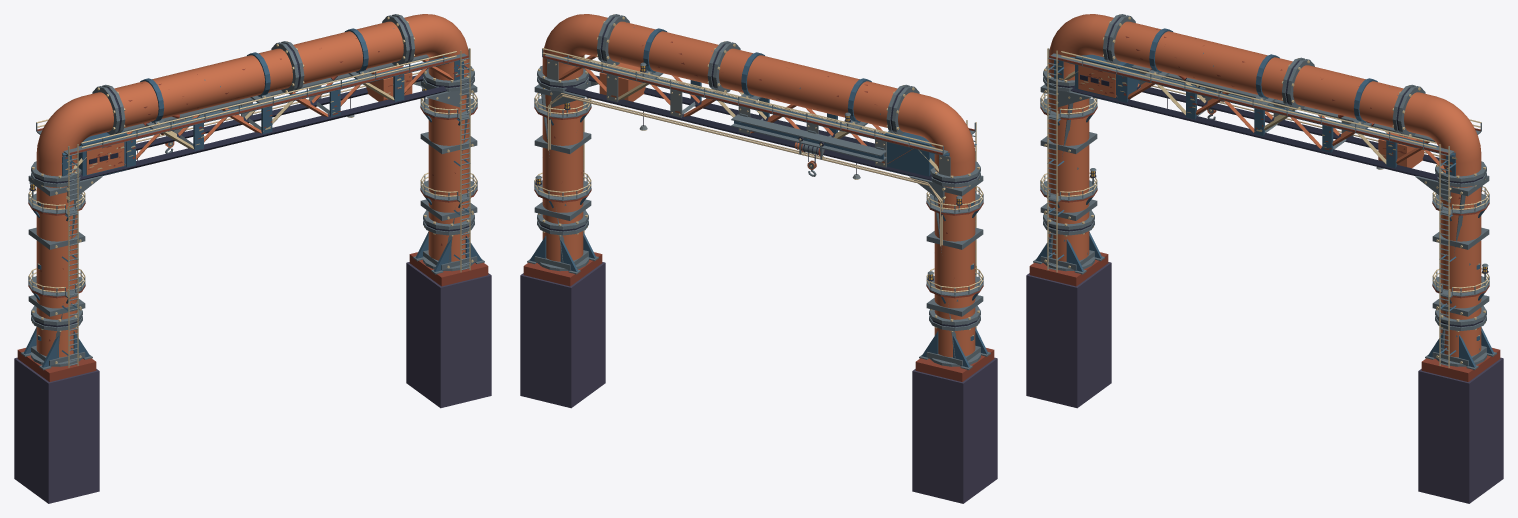
File: foundry-service-gantry-v3.glb
The picture shows the model from 3 angles, left to right: view 1: azimuth 30°, elevation 25°; view 2: azimuth 150°, elevation 25°; view 3: azimuth 330°, elevation 25°; orthographic projection.
Parts seen in each view (by area): view 1: foundry-service-gantry-v3; view 2: foundry-service-gantry-v3; view 3: foundry-service-gantry-v3.
Part boxes in pixels (left/top/right/bottom): foundry-service-gantry-v3: left=14, top=14, right=491, bottom=503; foundry-service-gantry-v3: left=520, top=14, right=997, bottom=503; foundry-service-gantry-v3: left=1026, top=14, right=1503, bottom=503.
Size of the model in its own units: 104 by 86.4 by 14.
